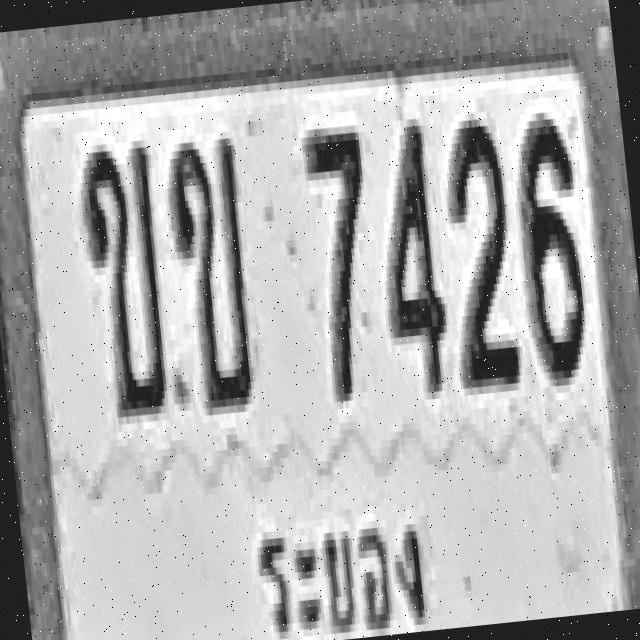11KhorKhai: (75, 140, 174, 418), (162, 130, 260, 410)
2: (435, 110, 523, 388)
4: (369, 114, 451, 392)
6: (509, 113, 594, 384)
7: (300, 121, 385, 399)
Rayong: (235, 479, 437, 640)
